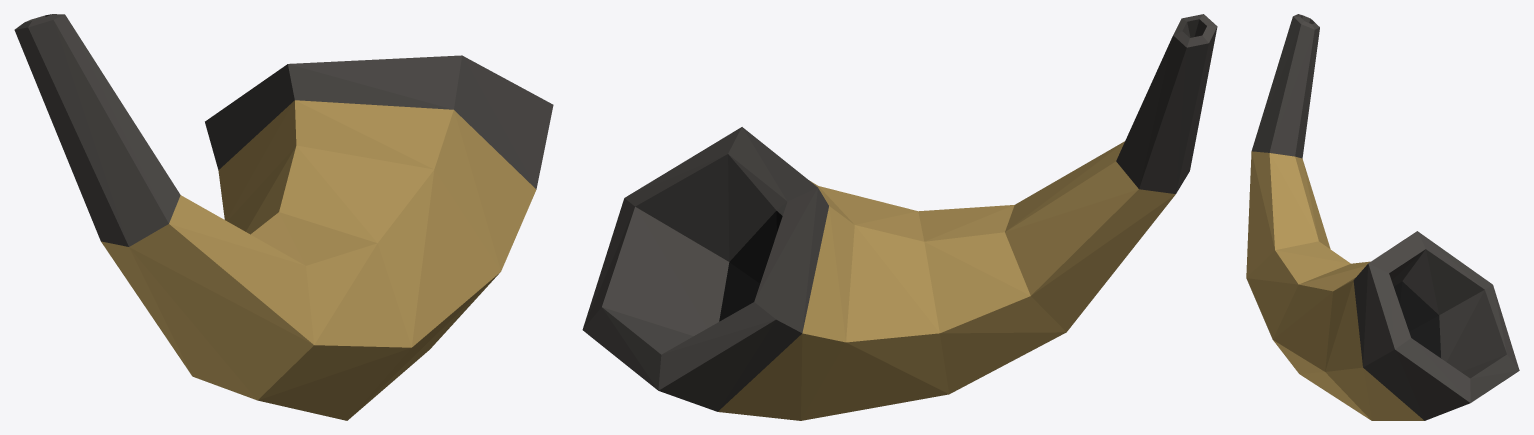
File: trinketHorn2.fbx
3 views of the same model, side by side, from view 1: azimuth 30°, elevation 25°; view 2: azimuth 150°, elevation 25°; view 3: azimuth 270°, elevation 25° (orthographic). The views are drawn at different scales.
Visible parts, largest first — view 1: trinketHorn2; view 2: trinketHorn2; view 3: trinketHorn2.
Boxes of the visible parts, left/top/right/bottom form: trinketHorn2: left=14, top=14, right=553, bottom=420; trinketHorn2: left=582, top=14, right=1217, bottom=420; trinketHorn2: left=1246, top=14, right=1519, bottom=420.
Bounding box in the file's own units: 1.75 × 1.34 × 1.18.
Materials: 1 (1 with a texture image).
